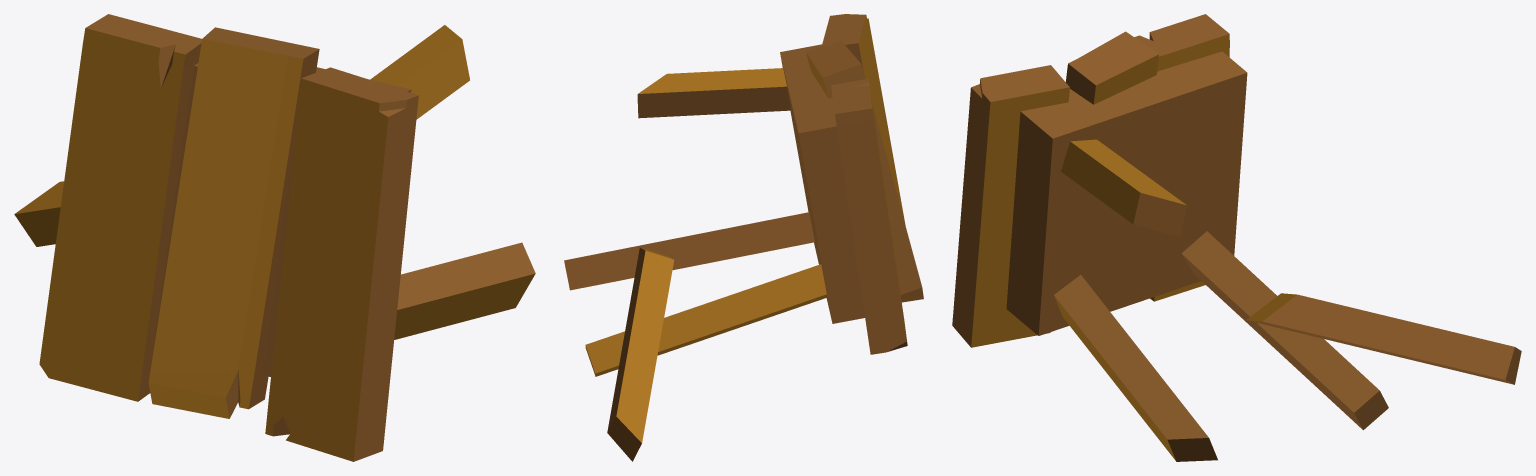
File: banco_quebrado_1.fbx
The picture shows the model from 3 angles, left to right: view 1: azimuth 30°, elevation 25°; view 2: azimuth 150°, elevation 25°; view 3: azimuth 270°, elevation 25°; orthographic projection. The views are drawn at different scales.
Parts seen in each view (by area): view 1: banco_quebrado_1; view 2: banco_quebrado_1; view 3: banco_quebrado_1.
Part boxes in pixels (box(x1,y1,x2,y2)): banco_quebrado_1: box(14, 14, 535, 461); banco_quebrado_1: box(564, 14, 923, 461); banco_quebrado_1: box(952, 14, 1521, 461).
Bounding box in the file's own units: 73.04 × 58.59 × 93.82.
